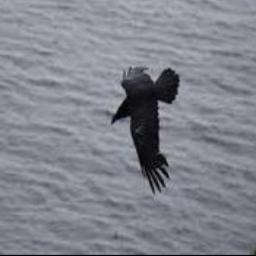Crow: (110, 63, 180, 194)
